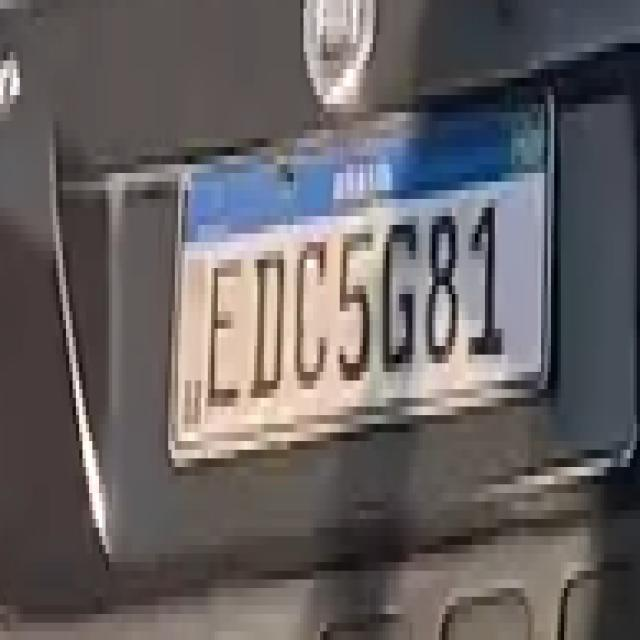Placa_mercosul_carro: (167, 79, 555, 464)
